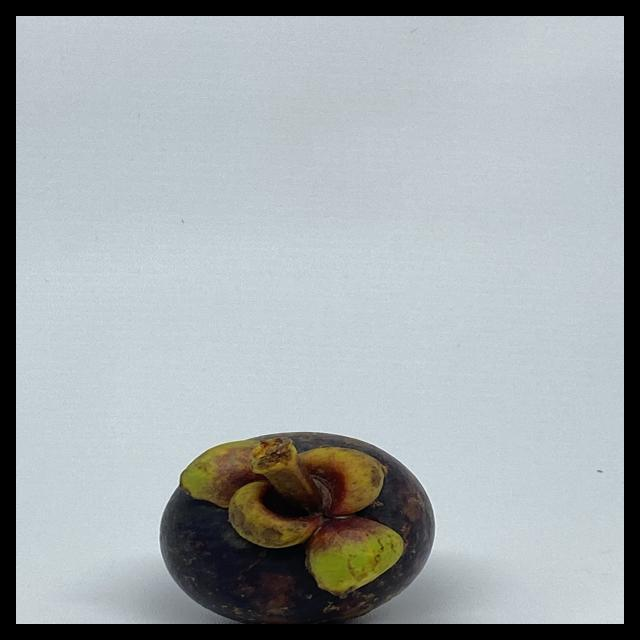mangosteen: (148, 424, 450, 624)
